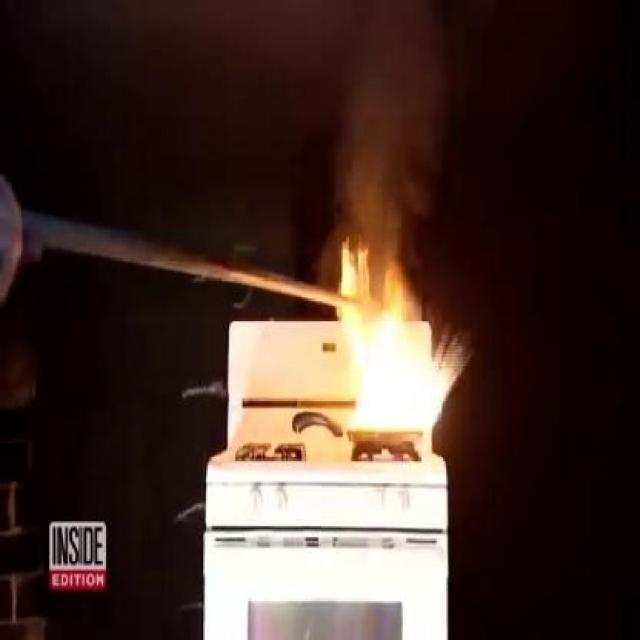fire: (336, 228, 466, 444)
